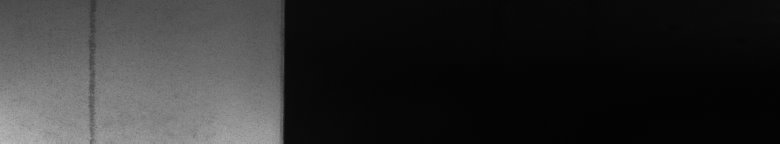hd: (84, 4, 101, 136)
